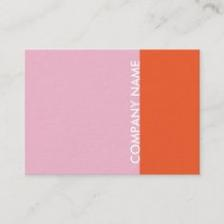orange: (140, 50, 200, 173)
